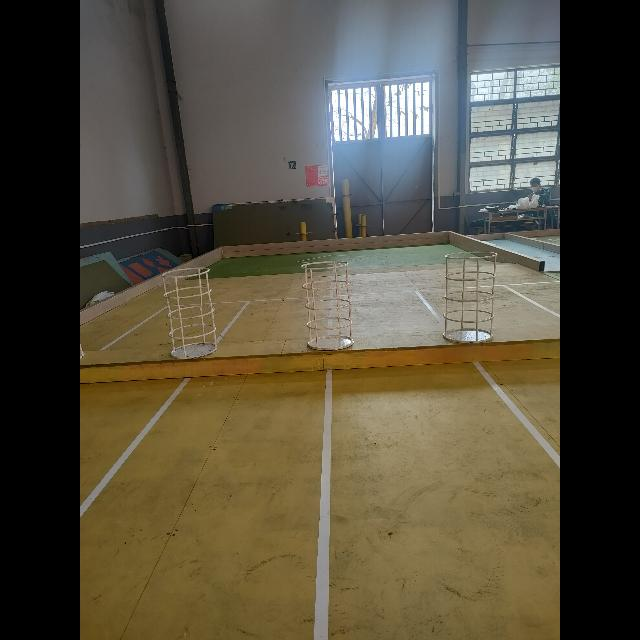S: (298, 259, 356, 355), (159, 267, 219, 359), (442, 250, 496, 342)
